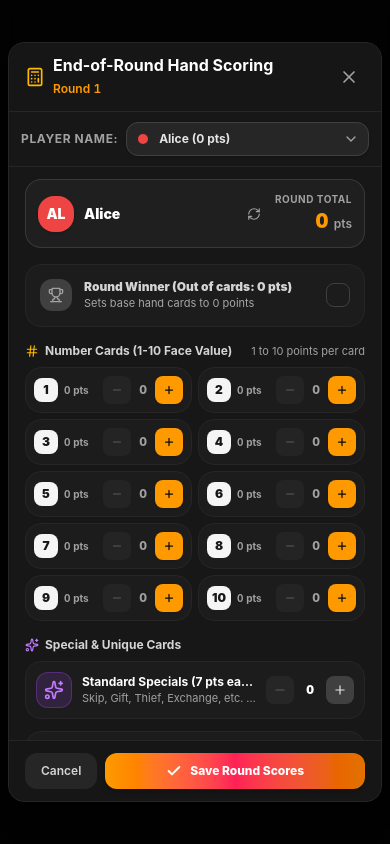
Test: HandCalculatorModal component › allows switching active player via player picker
Expected: the text "AL" is shown, [38, 196, 74, 232]
Note: Switch to Bob via dropdown select
Select "Bob (0 pts)" in the dropdown labelled "Player Name:": (248, 139) [126, 122, 369, 156]
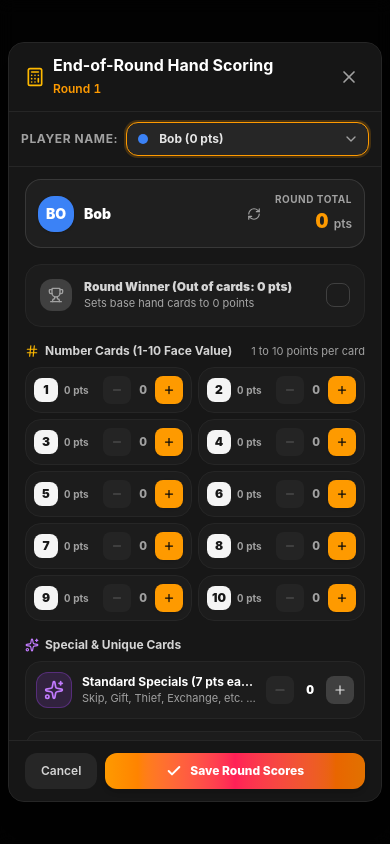
Expected: the text "BO" is shown, [38, 196, 74, 232]
